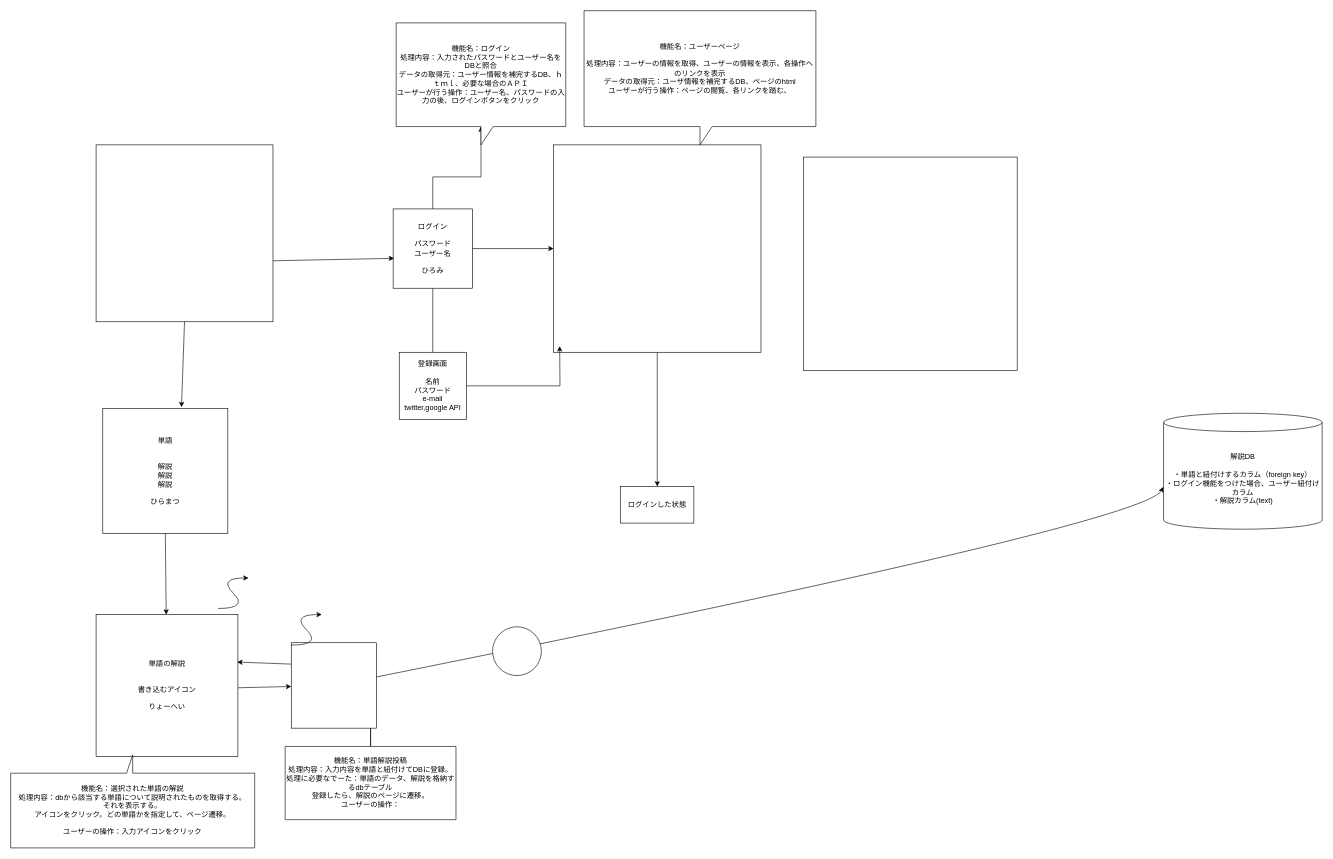
Some shapes in this 1333 by 859 pixel diagram are drawn without their labels. The centre of each missing label's shape, as x and y in pixels:
"ホーム画面 検索窓 単語がずらり ひらまつ" belongs at pixel 184 233.
"ユーザーページ ユーザー名 過去の投稿一覧 ログアウト s" belongs at pixel 657 248.
"機能名 処理内容 処理に必要なデータ データの取得元 ユーザーが行い操作" belongs at pixel 910 263.
"解説 投稿 りょーへい" belongs at pixel 334 685.
"解説データ" belongs at pixel 516 651.
